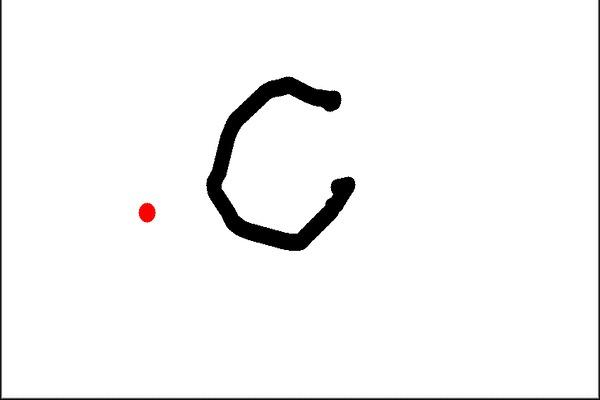C: (202, 71, 356, 253)
